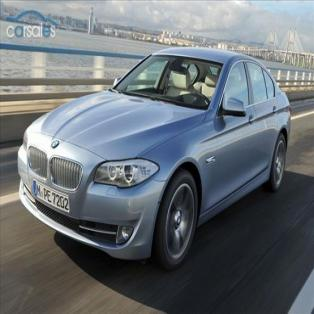Auto: (17, 47, 291, 273)
